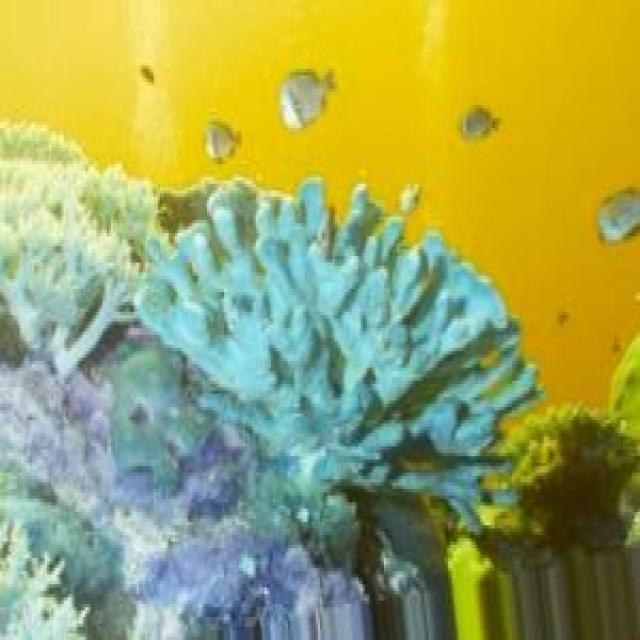Healthy: (135, 182, 543, 526), (31, 323, 323, 618), (1, 122, 155, 378)
